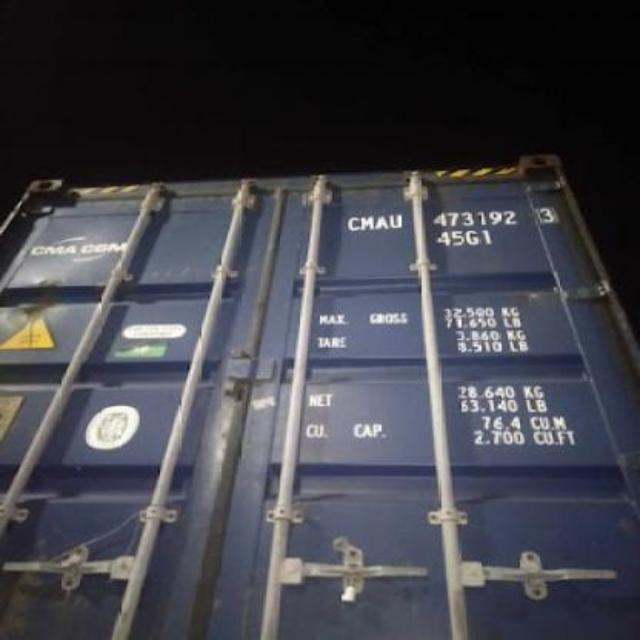1: (476, 190, 488, 226)
2: (502, 198, 522, 230)
3: (536, 202, 558, 225), (461, 202, 474, 228)
4: (432, 207, 450, 230)
7: (446, 204, 458, 228)
9: (488, 204, 500, 228)
A: (372, 208, 388, 232)
C: (342, 208, 358, 232)
M: (358, 206, 374, 232)
U: (386, 205, 404, 231)
